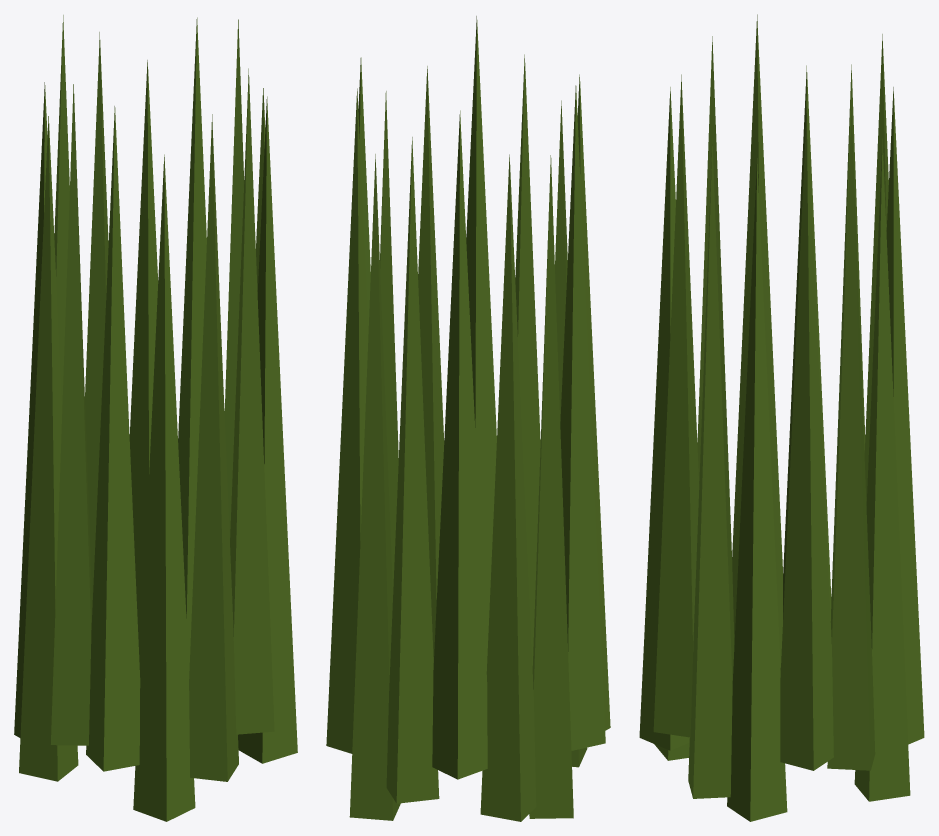
Rendered from grass_tall.fbx.
The picture shows the model from 3 angles, left to right: view 1: azimuth 30°, elevation 25°; view 2: azimuth 150°, elevation 25°; view 3: azimuth 270°, elevation 25°; orthographic projection.
Visible parts, largest first — view 1: Cone_6, Cone_5, Cone_7, Cone_8, Cone_3, Cone_4, Cone_9, Cone_12, Cone_13, Cone_14, Cone_11, Cone_2 (+2 smaller); view 2: Cone_1, Cone_2, Cone_14, Cone_4, Cone_13, Cone_3, Cone_12, Cone_8, Cone_9, Cone_7, Cone_10, Cone_5 (+2 smaller); view 3: Cone_11, Cone_10, Cone_8, Cone_13, Cone_9, Cone_12, Cone_14, Cone_7, Cone_4, Cone_5, Cone_3, Cone_1 (+1 smaller).
Boxes of the visible parts, box(x1,y1,x2,y2) form: Cone_6: box(133, 154, 195, 821); Cone_5: box(86, 106, 140, 771); Cone_7: box(189, 114, 238, 781); Cone_8: box(230, 68, 274, 734); Cone_3: box(19, 116, 78, 781); Cone_4: box(51, 84, 92, 745); Cone_9: box(238, 96, 297, 763); Cone_12: box(178, 17, 206, 674); Cone_13: box(129, 60, 158, 669); Cone_14: box(85, 32, 108, 607); Cone_11: box(224, 19, 244, 539); Cone_2: box(14, 82, 47, 737); Cone_1: box(432, 110, 487, 779); Cone_2: box(480, 154, 536, 821); Cone_14: box(386, 137, 439, 803); Cone_4: box(560, 85, 605, 750); Cone_13: box(349, 154, 400, 820); Cone_3: box(529, 155, 573, 818); Cone_12: box(326, 88, 368, 753); Cone_8: box(466, 16, 496, 670); Cone_9: box(418, 66, 444, 662); Cone_7: box(515, 54, 540, 666); Cone_10: box(380, 91, 398, 594); Cone_5: box(577, 74, 610, 730); Cone_11: box(780, 106, 833, 770); Cone_10: box(727, 157, 787, 821); Cone_8: box(653, 74, 699, 737); Cone_13: box(854, 138, 910, 801); Cone_9: box(688, 138, 732, 798); Cone_12: box(827, 110, 875, 770); Cone_14: box(886, 87, 924, 744); Cone_7: box(639, 87, 689, 750); Cone_4: box(732, 14, 783, 667); Cone_5: box(697, 36, 734, 683); Cone_3: box(780, 65, 831, 669); Cone_1: box(864, 34, 888, 505).
Bounding box in the file's own units: 48.41 × 138 × 49.66.
